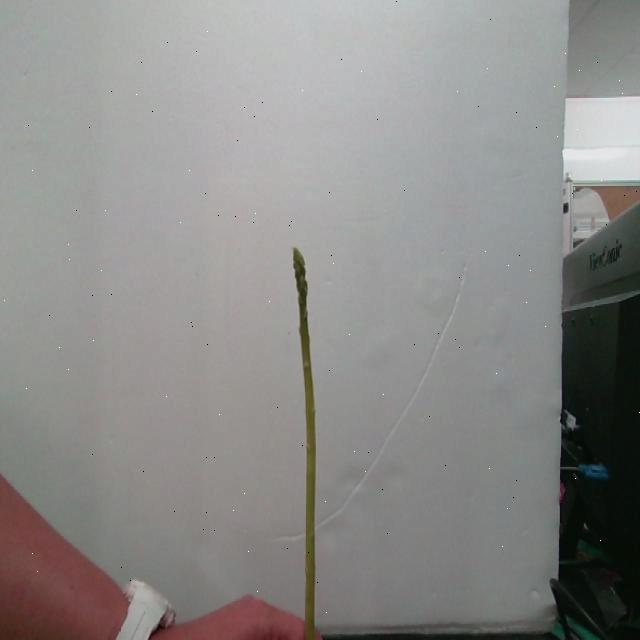aspargus: (293, 250, 320, 640)
